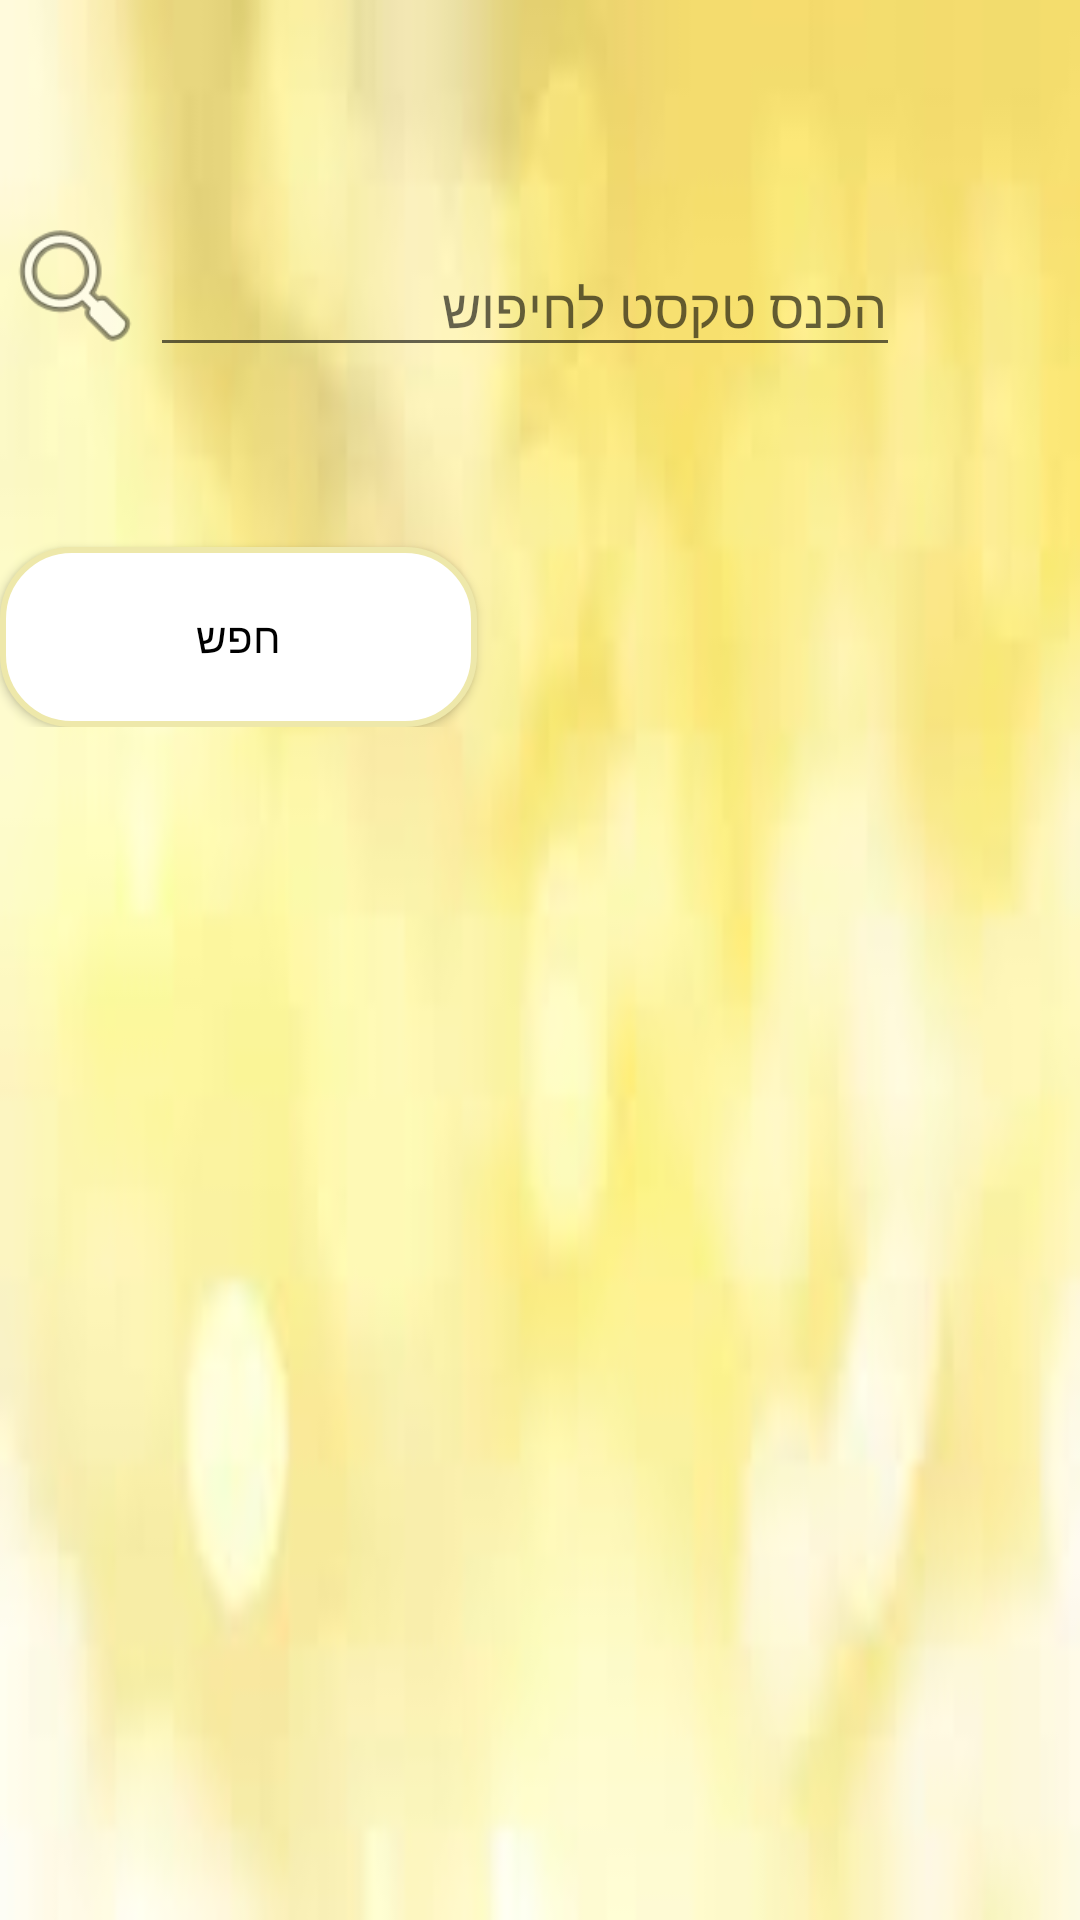

Screen size 1080*1920. Icon name, then its center in pixels as (x=x, y=y):
search: (x=75, y=285)
